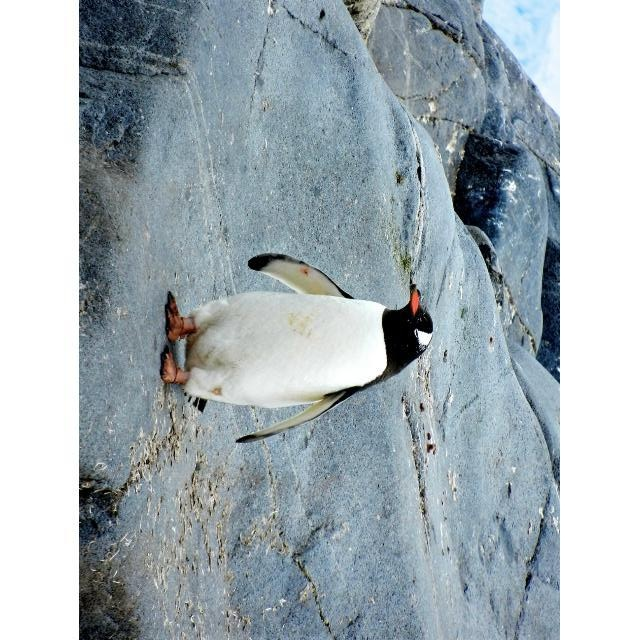penguin: (159, 251, 436, 443)
